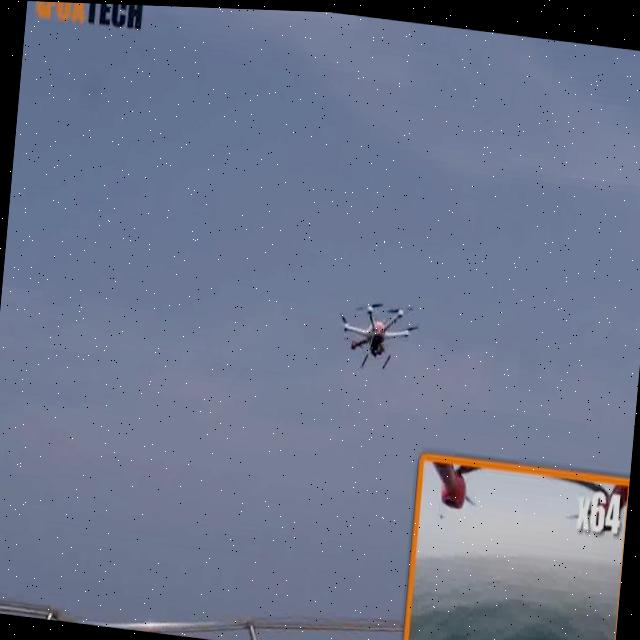drone: (334, 275, 434, 373)
